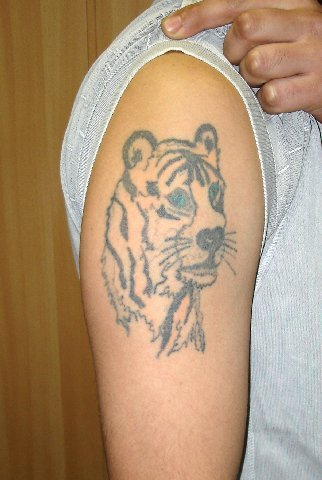tatu5_tigr: (99, 121, 239, 359)
